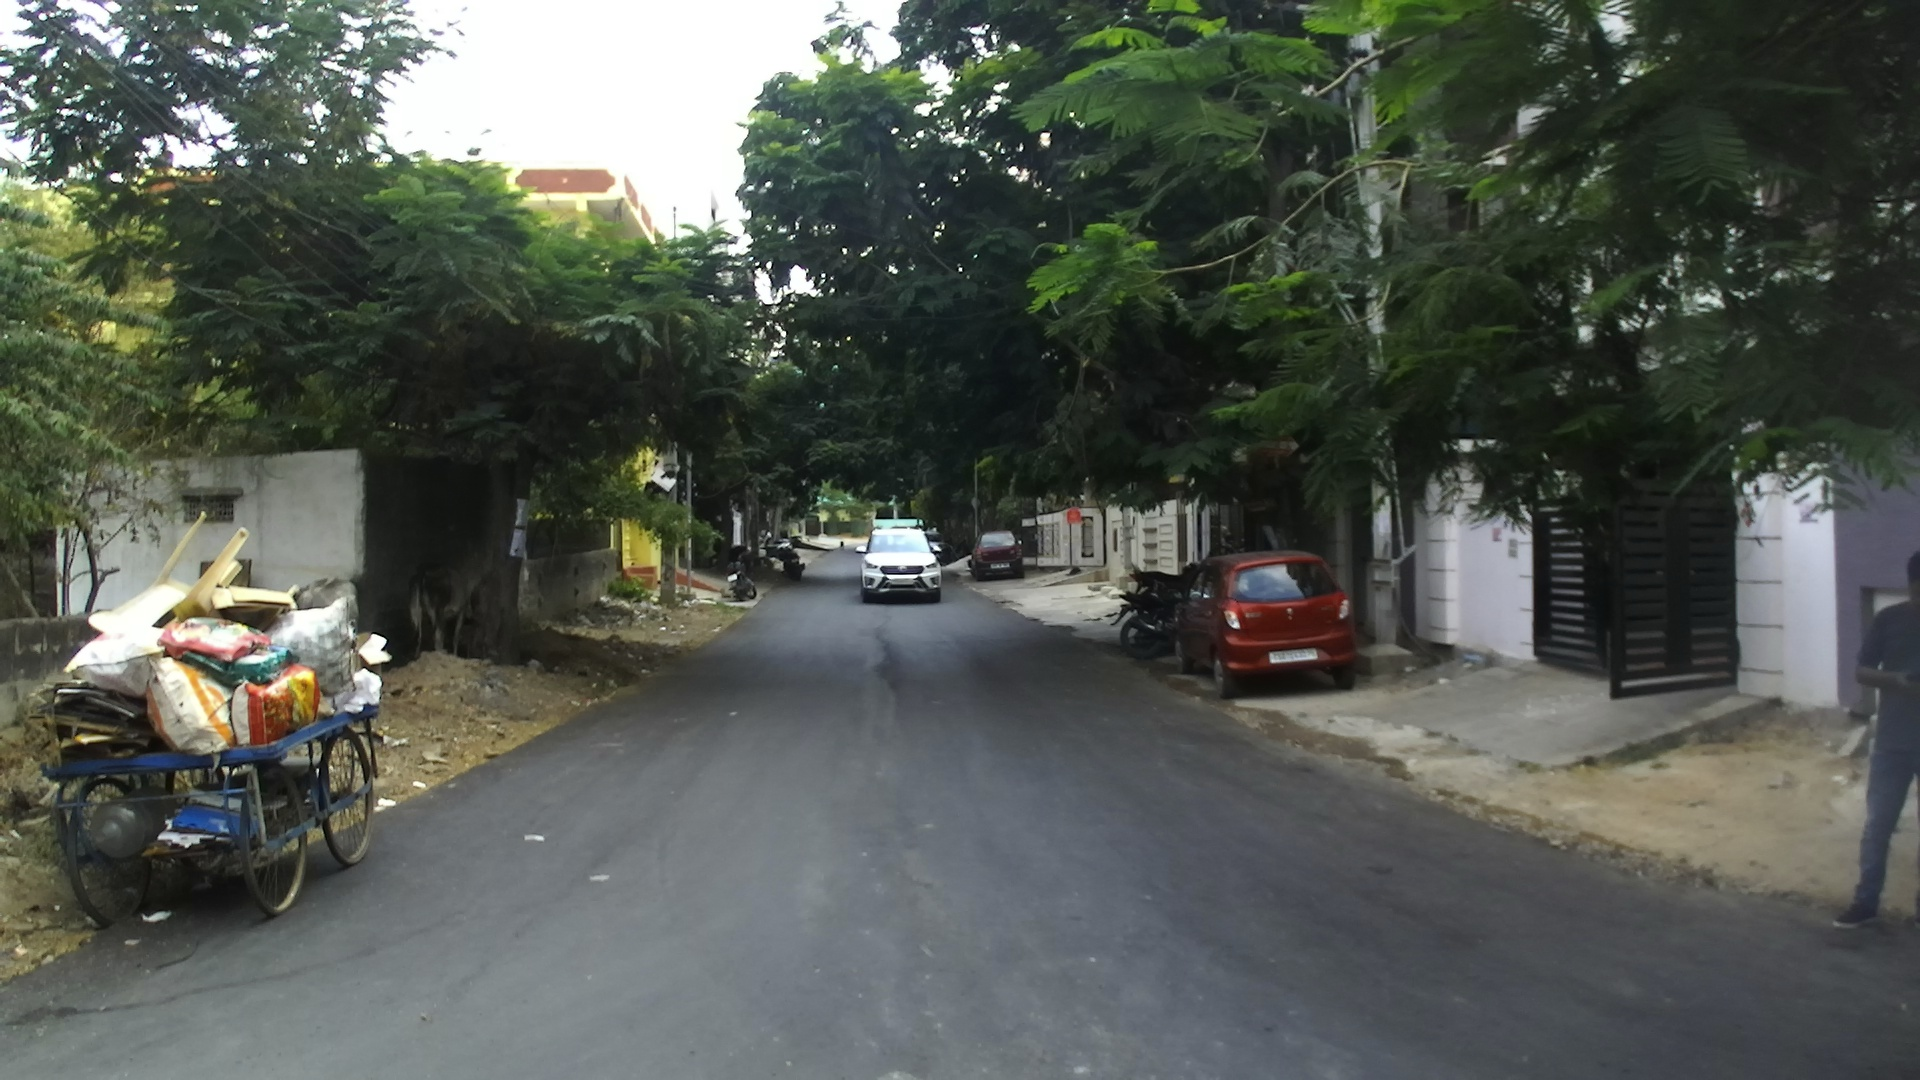vehicle: (36, 512, 397, 927), (1172, 546, 1360, 695), (855, 521, 943, 603), (1112, 567, 1183, 653), (971, 531, 1022, 578)
